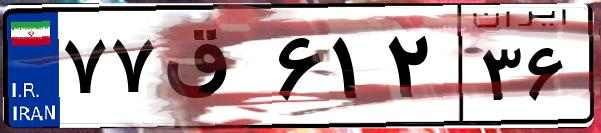1: (330, 28, 385, 110)
2: (385, 28, 445, 110)
3: (475, 38, 525, 113)
6: (270, 28, 330, 110), (525, 38, 570, 115)
7: (57, 26, 110, 100), (110, 28, 158, 98)
ق: (158, 20, 270, 120)
